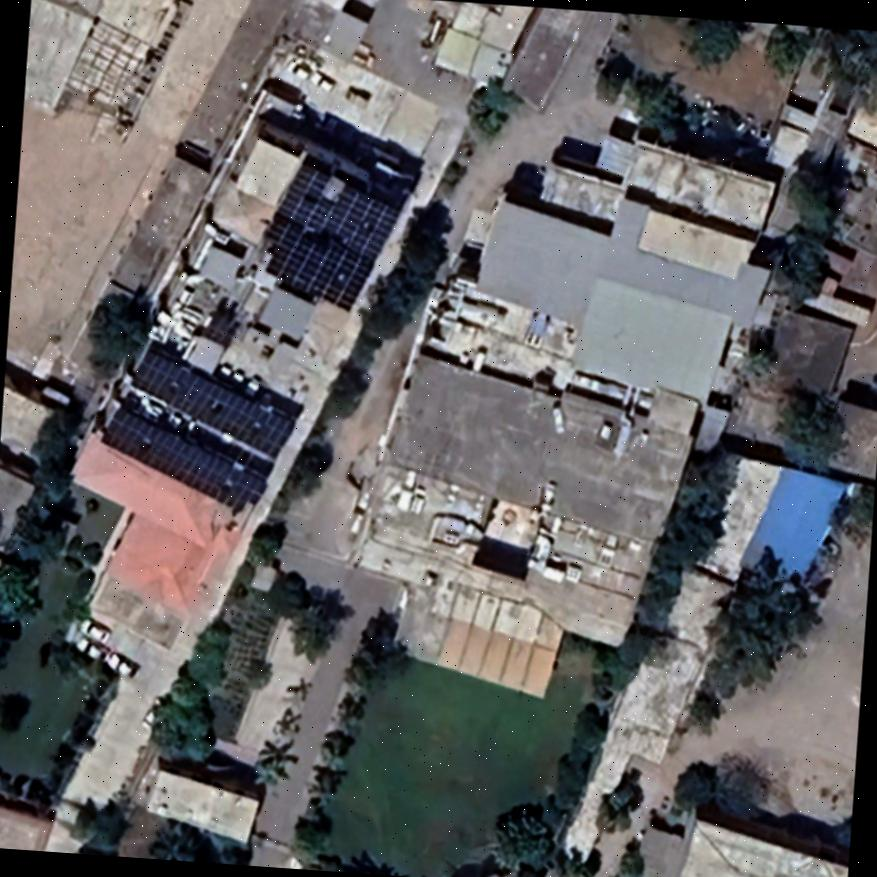Solarpanel: (242, 149, 410, 314), (92, 389, 274, 522), (117, 340, 300, 463)
